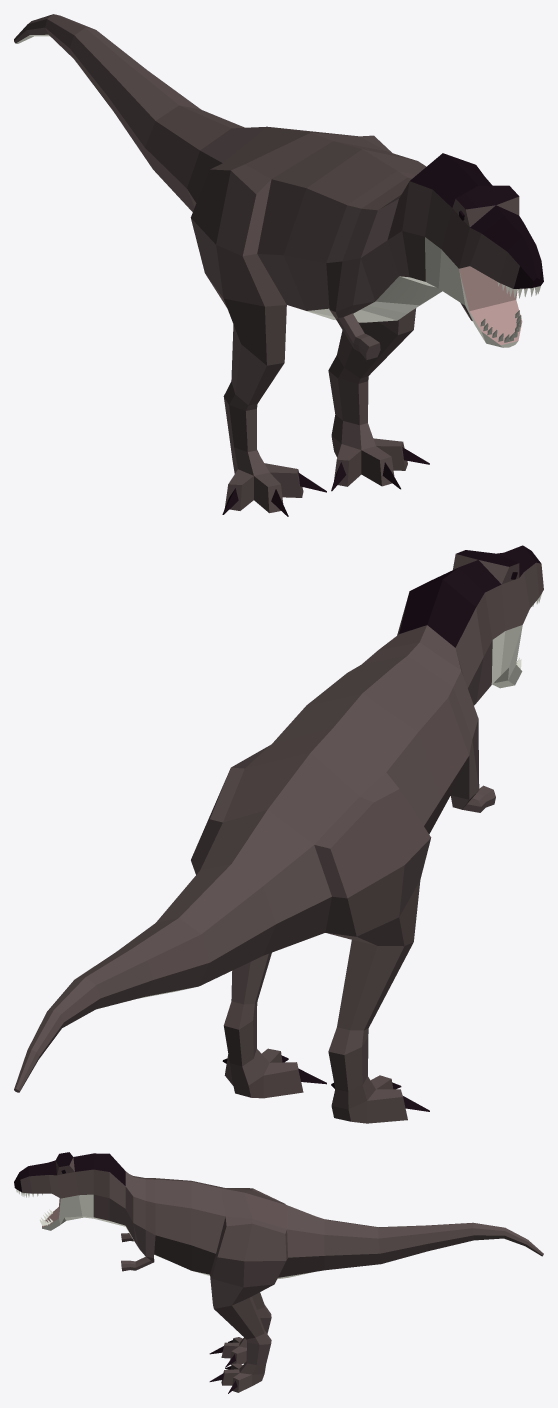
Rendered from TRex.gltf.
The picture shows the model from 3 angles, top to bottom: view 1: azimuth 30°, elevation 25°; view 2: azimuth 150°, elevation 25°; view 3: azimuth 270°, elevation 25°; orthographic projection. The views are drawn at different scales.
Visible parts, largest first — view 1: Geo_Dinosaur; view 2: Geo_Dinosaur; view 3: Geo_Dinosaur.
Boxes of the visible parts, x1=… form: Geo_Dinosaur: x1=14, y1=14, x2=543, y2=516; Geo_Dinosaur: x1=14, y1=545, x2=543, y2=1123; Geo_Dinosaur: x1=14, y1=1152, x2=543, y2=1393.
Bounding box in the file's own units: 125 × 245 × 542.
Materials: 1 (1 with a texture image).
